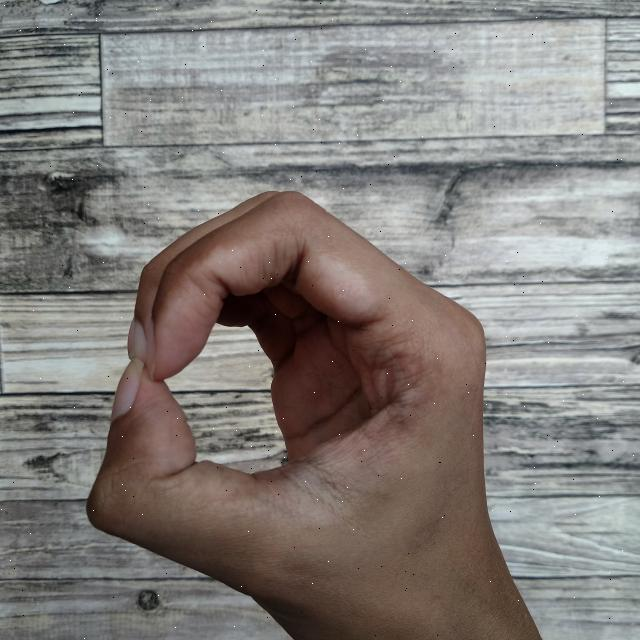O: (76, 178, 545, 640)
